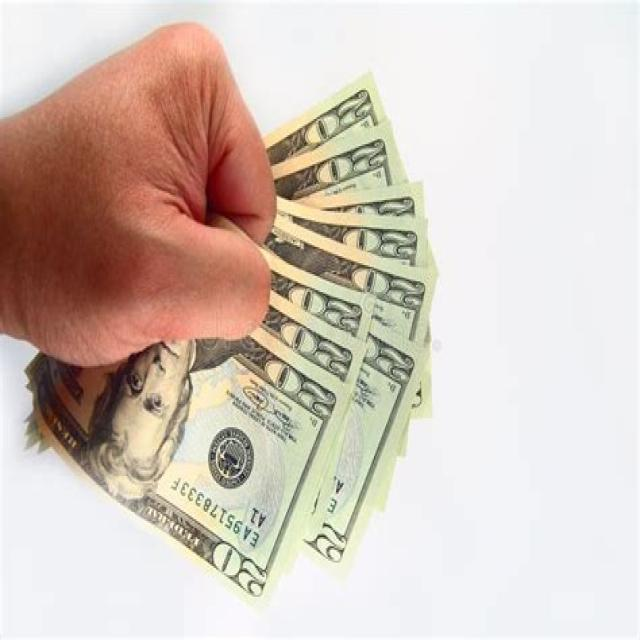Twenty: (23, 329, 350, 603)
